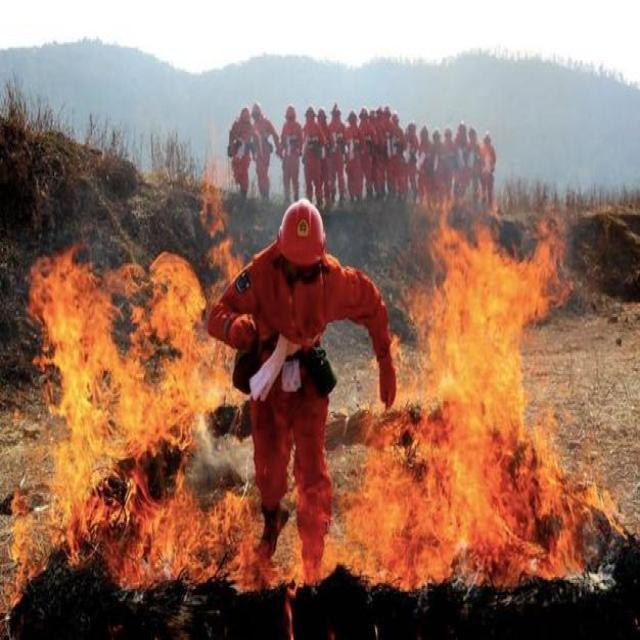Fire: (356, 212, 598, 588), (25, 247, 258, 588)
